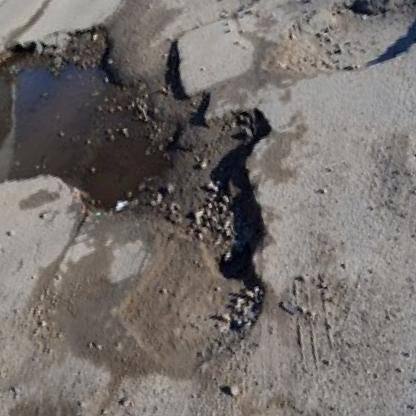pothole: (0, 0, 337, 416), (250, 0, 416, 101)
